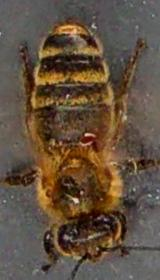varroa_mite: (76, 126, 102, 150)
